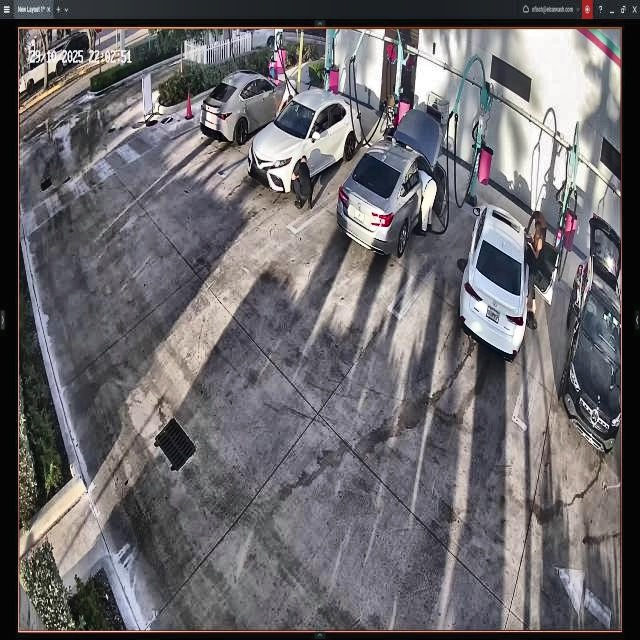Car: (337, 110, 442, 250), (249, 89, 362, 194), (464, 202, 529, 361), (199, 70, 298, 140)
